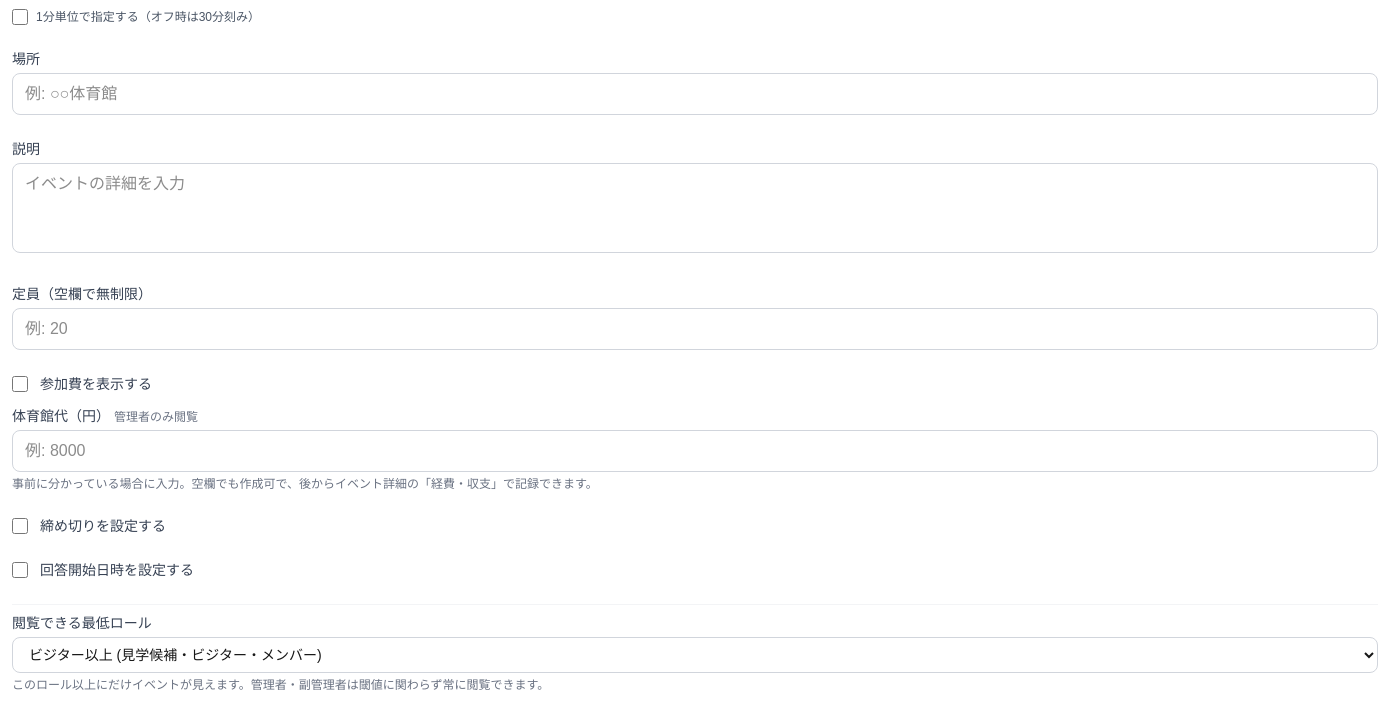
Test: EventForm › 参加費表示チェックボックスON で参加費入力欄が現れる
This screenshot has width=1390, height=708.
(page scrolled)
Expected: the field labelled "参加費（円）" is not shown
Click the checkbox labelled "参加費を表示する" at x=20, y=384, box [12,376,28,392]
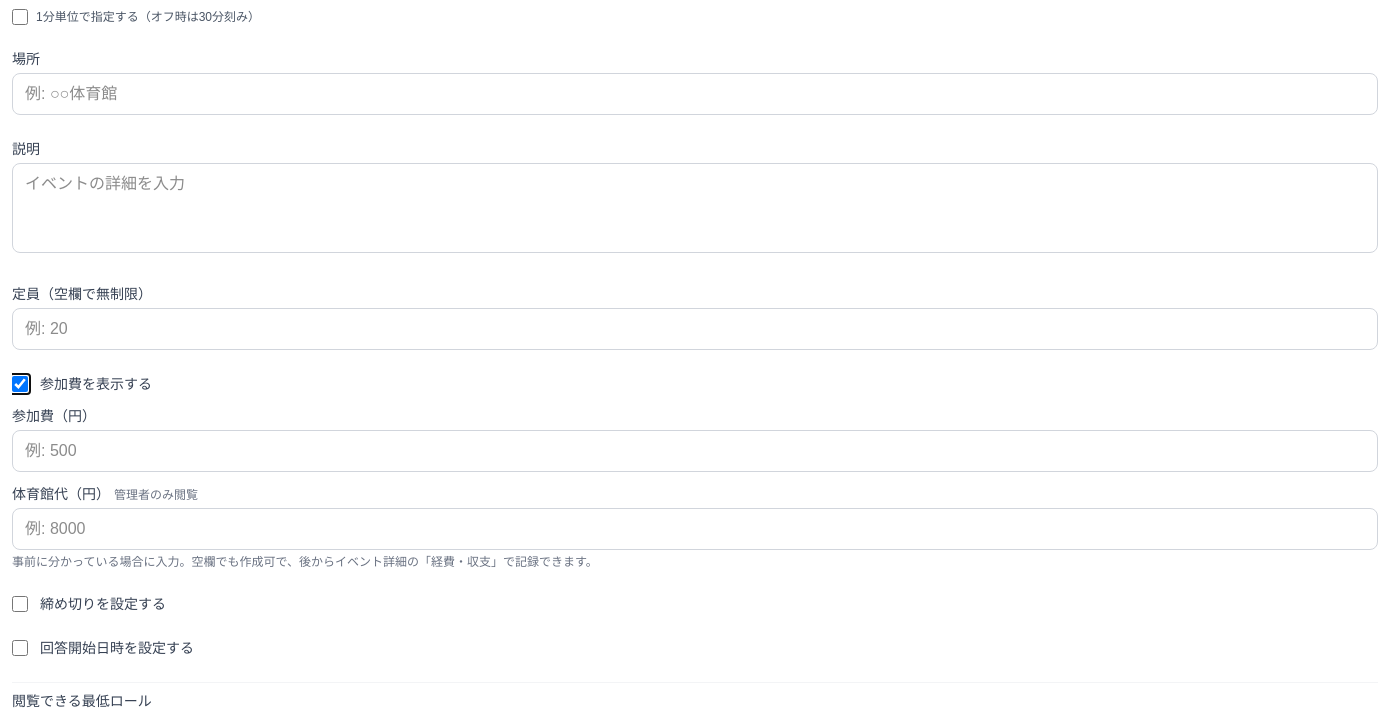
Now the number field labelled "参加費（円）" is shown, box [12,430,1378,472]
